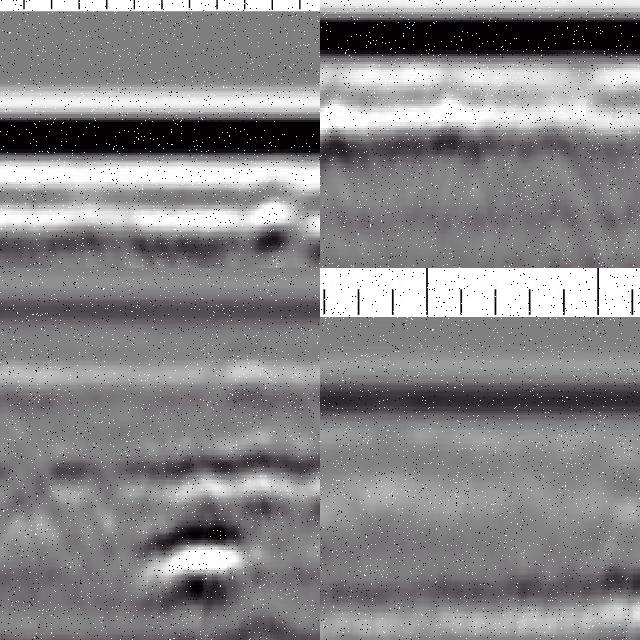loose: (123, 437, 321, 606), (552, 516, 640, 637), (321, 133, 360, 269)
